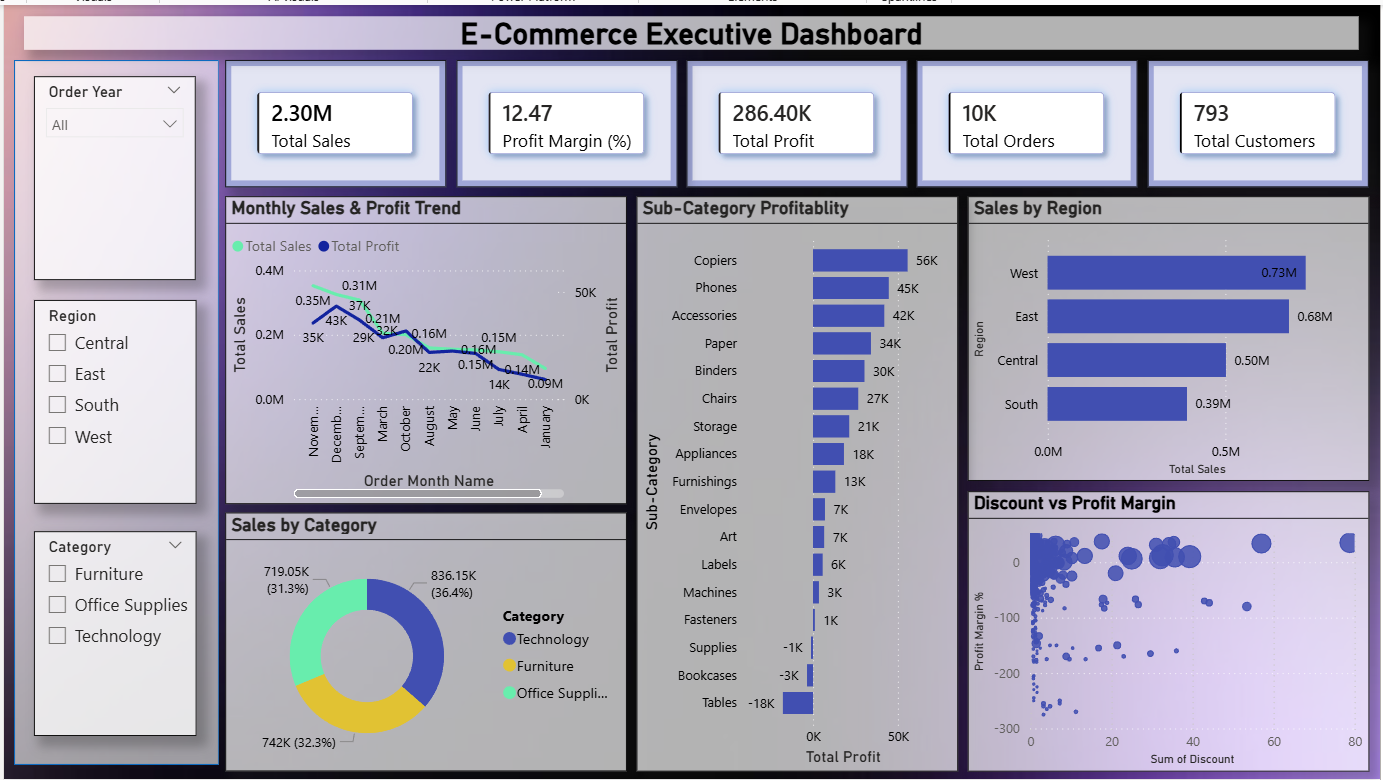

Layout of this report page (visuals, bound fields, positions):
{"tool":"powerbi","page":{"name":"Page 1","canvas":[1280,720],"ordinal":0},"visuals":[{"type":"cardVisual","fields":{"Data":["Superstore_cleaned.Total Profit"]},"box":[634.9,51.2,205.8,118.6],"z":1},{"type":"cardVisual","fields":{"Data":["Superstore_cleaned.Total Sales"]},"box":[205.8,51.2,205.8,118.6],"z":2},{"type":"cardVisual","fields":{"Data":["Superstore_cleaned.Profit Margin (%)"]},"box":[420.9,51.2,205.8,118.6],"z":3},{"type":"cardVisual","fields":{"Data":["Superstore_cleaned.Total Orders"]},"box":[848.8,51.2,205.8,118.6],"z":4},{"type":"cardVisual","fields":{"Data":["Superstore_cleaned.Total Customers"]},"box":[1064,51.2,205.8,118.6],"z":5},{"type":"lineChart","title":"Monthly Sales & Profit Trend","fields":{"Category":["Superstore_cleaned.Order Month Name"],"Y":["Superstore_cleaned.Total Sales"],"Y2":["Superstore_cleaned.Total Profit"]},"box":[205.8,177.9,373.3,286],"z":6},{"type":"clusteredBarChart","title":"Sales by Region","fields":{"Category":["Superstore_cleaned.Region"],"Y":["Superstore_cleaned.Total Sales"]},"box":[896.5,177.9,373.3,265.1],"z":7},{"type":"donutChart","title":"Sales by Category","fields":{"Category":["Superstore_cleaned.Category"],"Y":["Superstore_cleaned.Total Sales"]},"box":[205.8,472.1,373.3,240.7],"z":8},{"type":"barChart","title":"Sub-Category Profitablity","fields":{"Category":["Superstore_cleaned.Sub-Category"],"Y":["Superstore_cleaned.Total Profit"]},"box":[588.4,177.9,298.8,534.9],"z":9},{"type":"scatterChart","title":"Discount vs Profit Margin","fields":{"Size":["Superstore_cleaned.Total Sales"],"X":["Sum(Superstore_cleaned.Discount)"],"Y":["Superstore_cleaned.Profit Margin %"]},"box":[896.5,452.3,373.3,260.5],"z":10},{"type":"textbox","title":"E-Commerce Executive Dashboard","box":[18.6,10.5,1241.9,31.4],"z":11},{"type":"shape","box":[9.1,51.2,190.7,655.8],"z":12,"group":"g2"},{"type":"slicer","fields":{"Values":["Superstore_cleaned.Order Year"]},"box":[28,66.8,150,189.5],"z":13,"group":"g2"},{"type":"slicer","fields":{"Values":["Superstore_cleaned.Region"]},"box":[27.4,274.7,151.2,189.5],"z":14,"group":"g2"},{"type":"slicer","fields":{"Values":["Superstore_cleaned.Category"]},"box":[27.7,489.6,151.2,190.7],"z":15,"group":"g2"},{"type":"group","id":"g1","title":"Group 1","box":[9.1,51.2,190.7,655.8],"z":16},{"type":"group","id":"g2","title":"Group 2","box":[9.1,51.2,190.7,655.8],"z":17,"group":"g1"}]}

Visuals, with their boxes in screenshot pixels (x1, y1, x2, y2):
cardVisual - Superstore_cleaned.Total Profit: select_region(680, 58, 899, 185)
cardVisual - Superstore_cleaned.Total Sales: select_region(223, 58, 442, 185)
cardVisual - Superstore_cleaned.Profit Margin (%): select_region(452, 58, 671, 185)
cardVisual - Superstore_cleaned.Total Orders: select_region(908, 58, 1127, 185)
cardVisual - Superstore_cleaned.Total Customers: select_region(1137, 58, 1357, 185)
"Monthly Sales & Profit Trend" lineChart: select_region(223, 193, 621, 498)
"Sales by Region" clusteredBarChart: select_region(959, 193, 1357, 476)
"Sales by Category" donutChart: select_region(223, 507, 621, 763)
"Sub-Category Profitablity" barChart: select_region(631, 193, 949, 763)
"Discount vs Profit Margin" scatterChart: select_region(959, 486, 1357, 763)
"E-Commerce Executive Dashboard" textbox: select_region(23, 15, 1347, 48)
shape: select_region(13, 58, 216, 757)
slicer - Superstore_cleaned.Order Year: select_region(33, 75, 193, 277)
slicer - Superstore_cleaned.Region: select_region(33, 296, 194, 498)
slicer - Superstore_cleaned.Category: select_region(33, 525, 194, 728)
"Group 1" group: select_region(13, 58, 216, 757)
"Group 2" group: select_region(13, 58, 216, 757)
